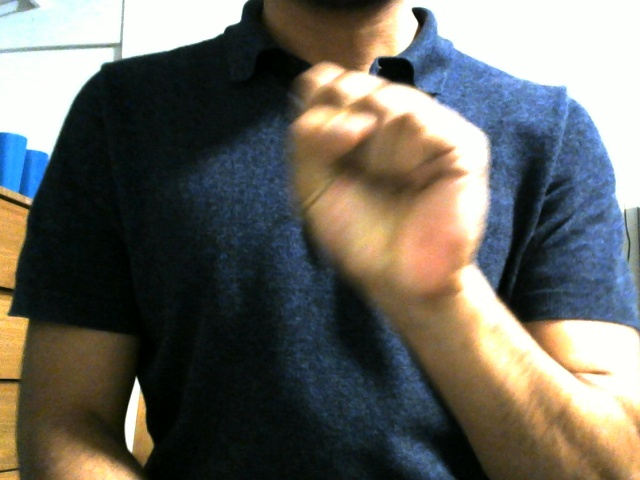S: (274, 57, 501, 308)
